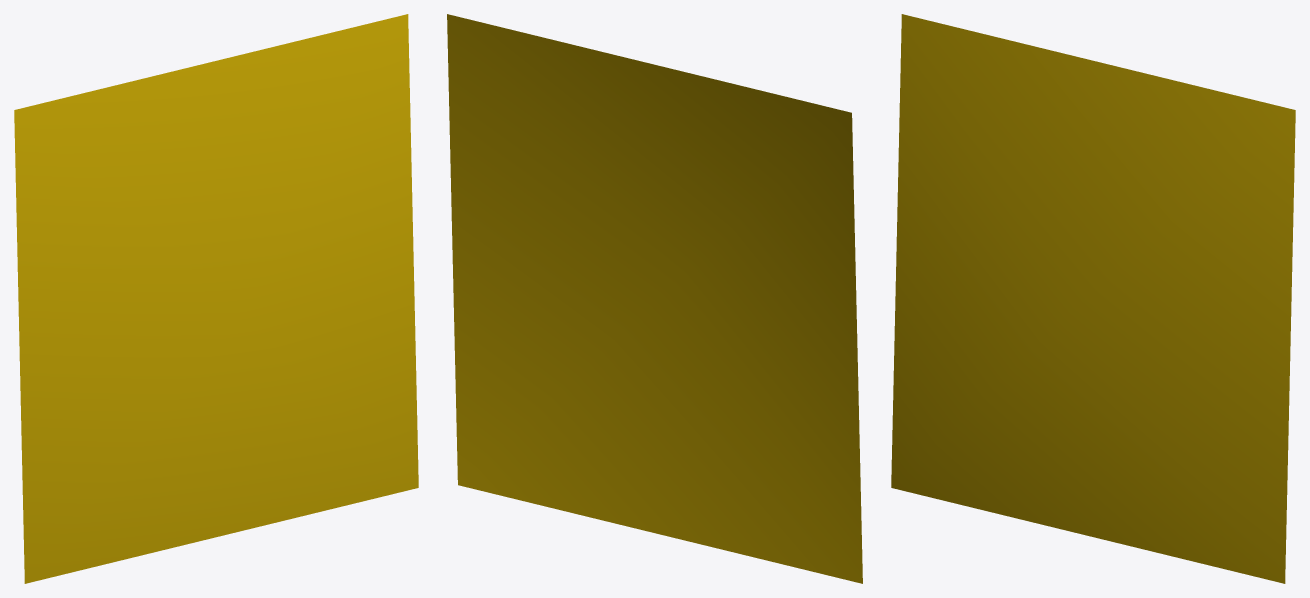
The model's file is SM_Leaf_02.fbx.
3 renders of one model, left to right at view 1: azimuth 30°, elevation 25°; view 2: azimuth 150°, elevation 25°; view 3: azimuth 330°, elevation 25°, orthographic. The views are drawn at different scales.
Visible parts, largest first — view 1: SM_Leaf_02; view 2: SM_Leaf_02; view 3: SM_Leaf_02.
Part boxes in pixels (<box>): SM_Leaf_02: <box>14,14,418,583</box>; SM_Leaf_02: <box>447,14,862,583</box>; SM_Leaf_02: <box>891,14,1295,583</box>.
Size of the model in its own units: 34.65 by 39.17 by 4.92.
